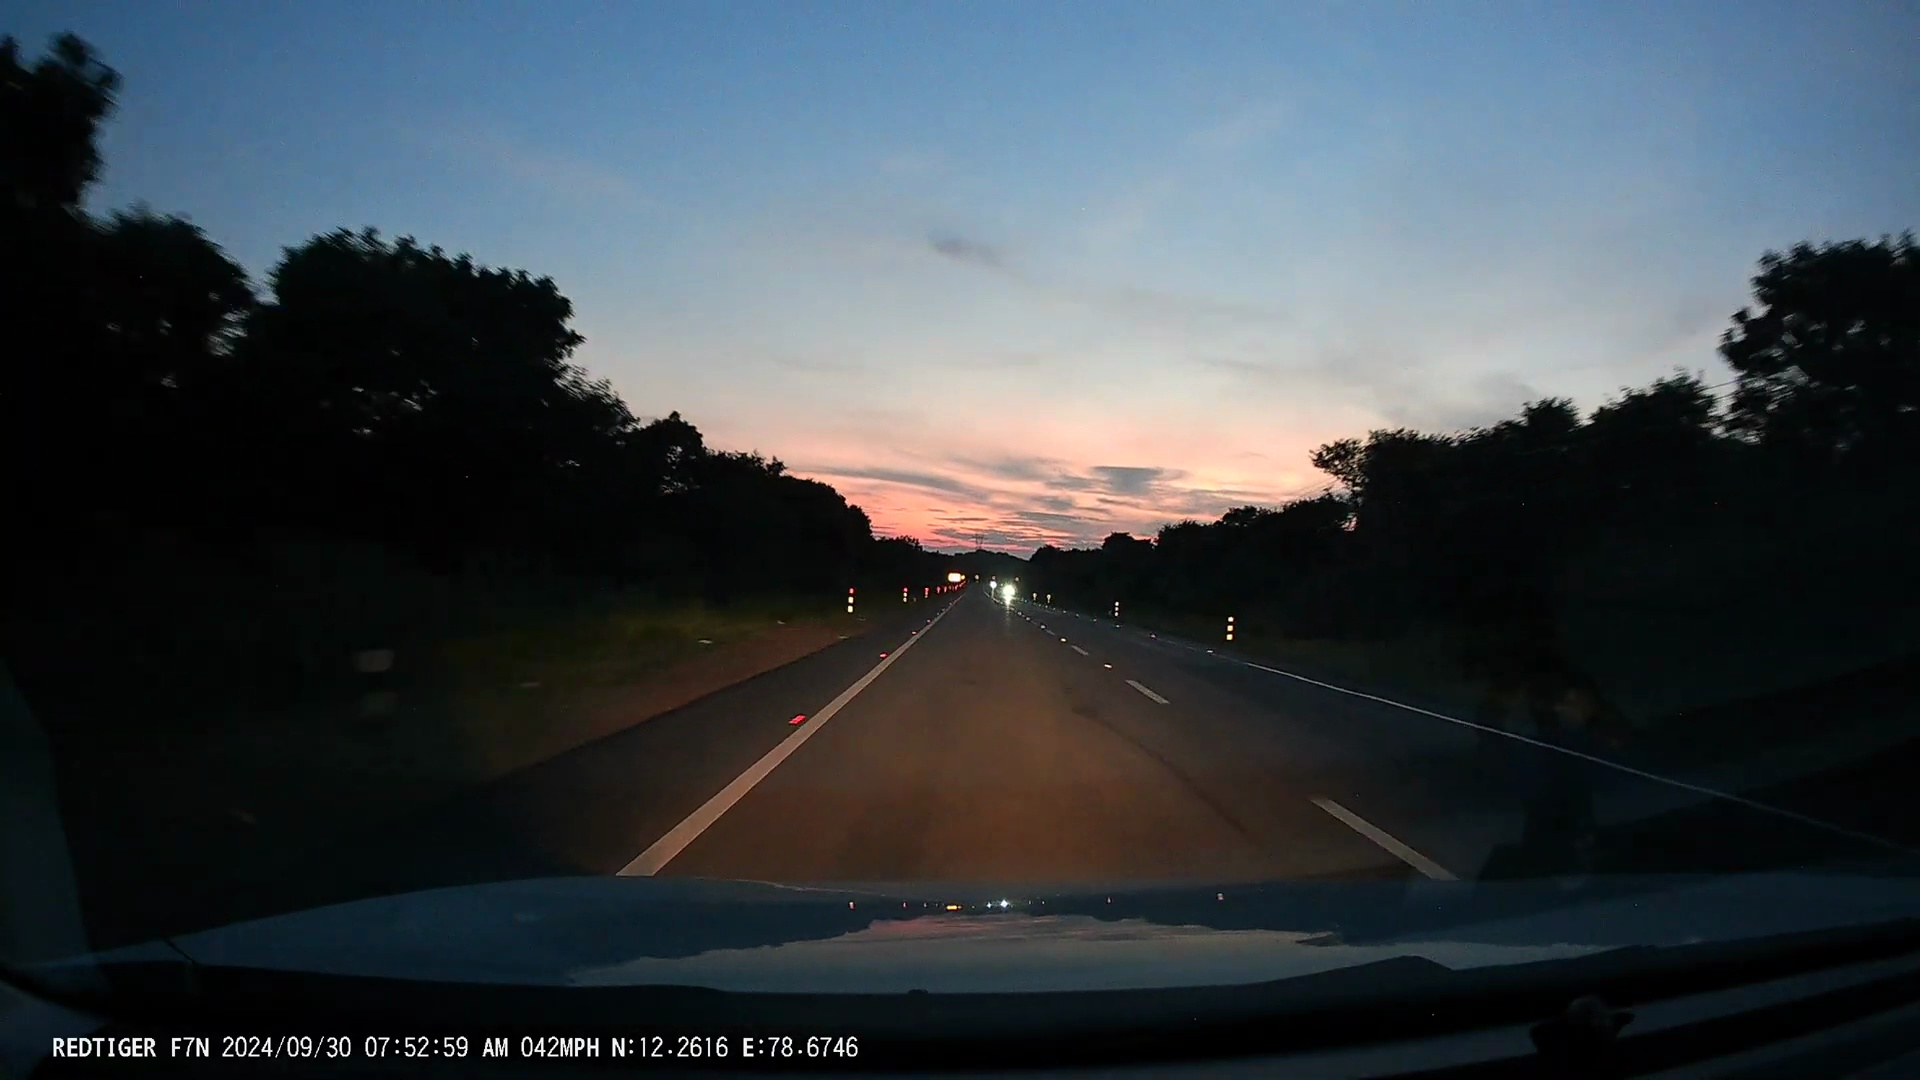headlight: (1004, 587, 1015, 595), (989, 579, 997, 589)
two wheeler: (1001, 582, 1022, 603), (989, 574, 996, 597)
